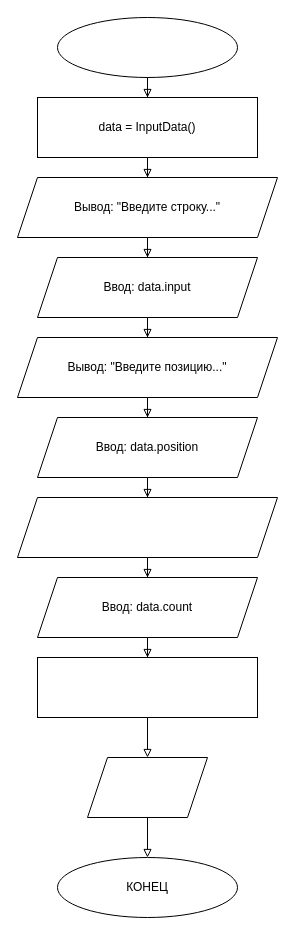
Image size: 295x935. Some labels were removed from this diagram. Here are the shapes that lost their labels. From the top down, the centre of each, then its label:
(x=147, y=47): НАЧАЛО
(x=147, y=527): Вывод: "Введите количество..."
(x=147, y=687): Очистить буфер ввода
(x=147, y=787): data
